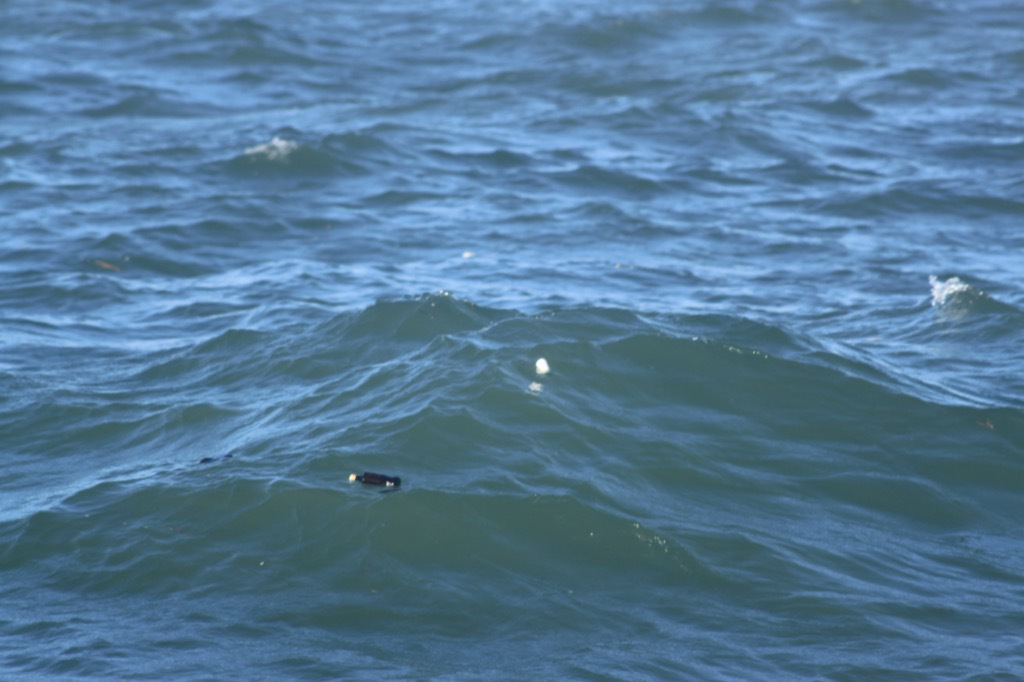plastic: (321, 452, 429, 509), (507, 337, 576, 413), (174, 441, 254, 479)
